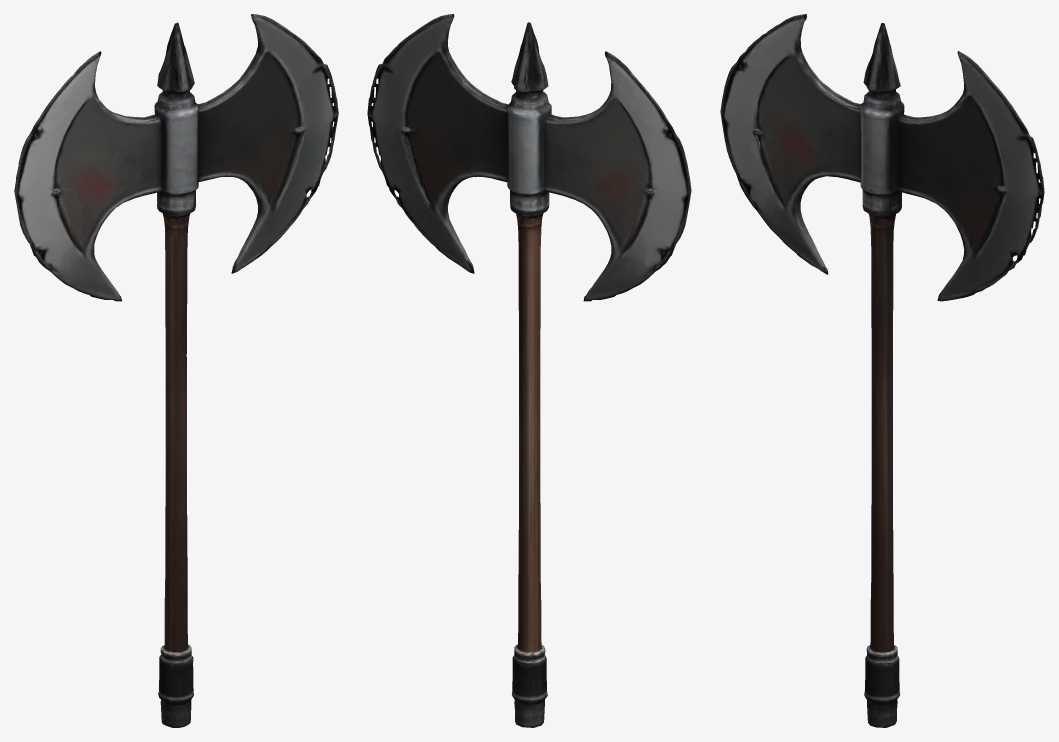
Rendered from great_axe.glb.
3 views of the same model, side by side, from view 1: azimuth 30°, elevation 25°; view 2: azimuth 150°, elevation 25°; view 3: azimuth 330°, elevation 25° (orthographic).
Visible parts, largest first — view 1: world; view 2: world; view 3: world.
Part boxes in pixels (x1,y1,x2,y2): world: (14, 14, 338, 727); world: (367, 14, 691, 727); world: (720, 14, 1044, 727).
Bounding box in the file's own units: 0.6058 × 1.25 × 0.0732.
Materials: 1 (1 with a texture image).
